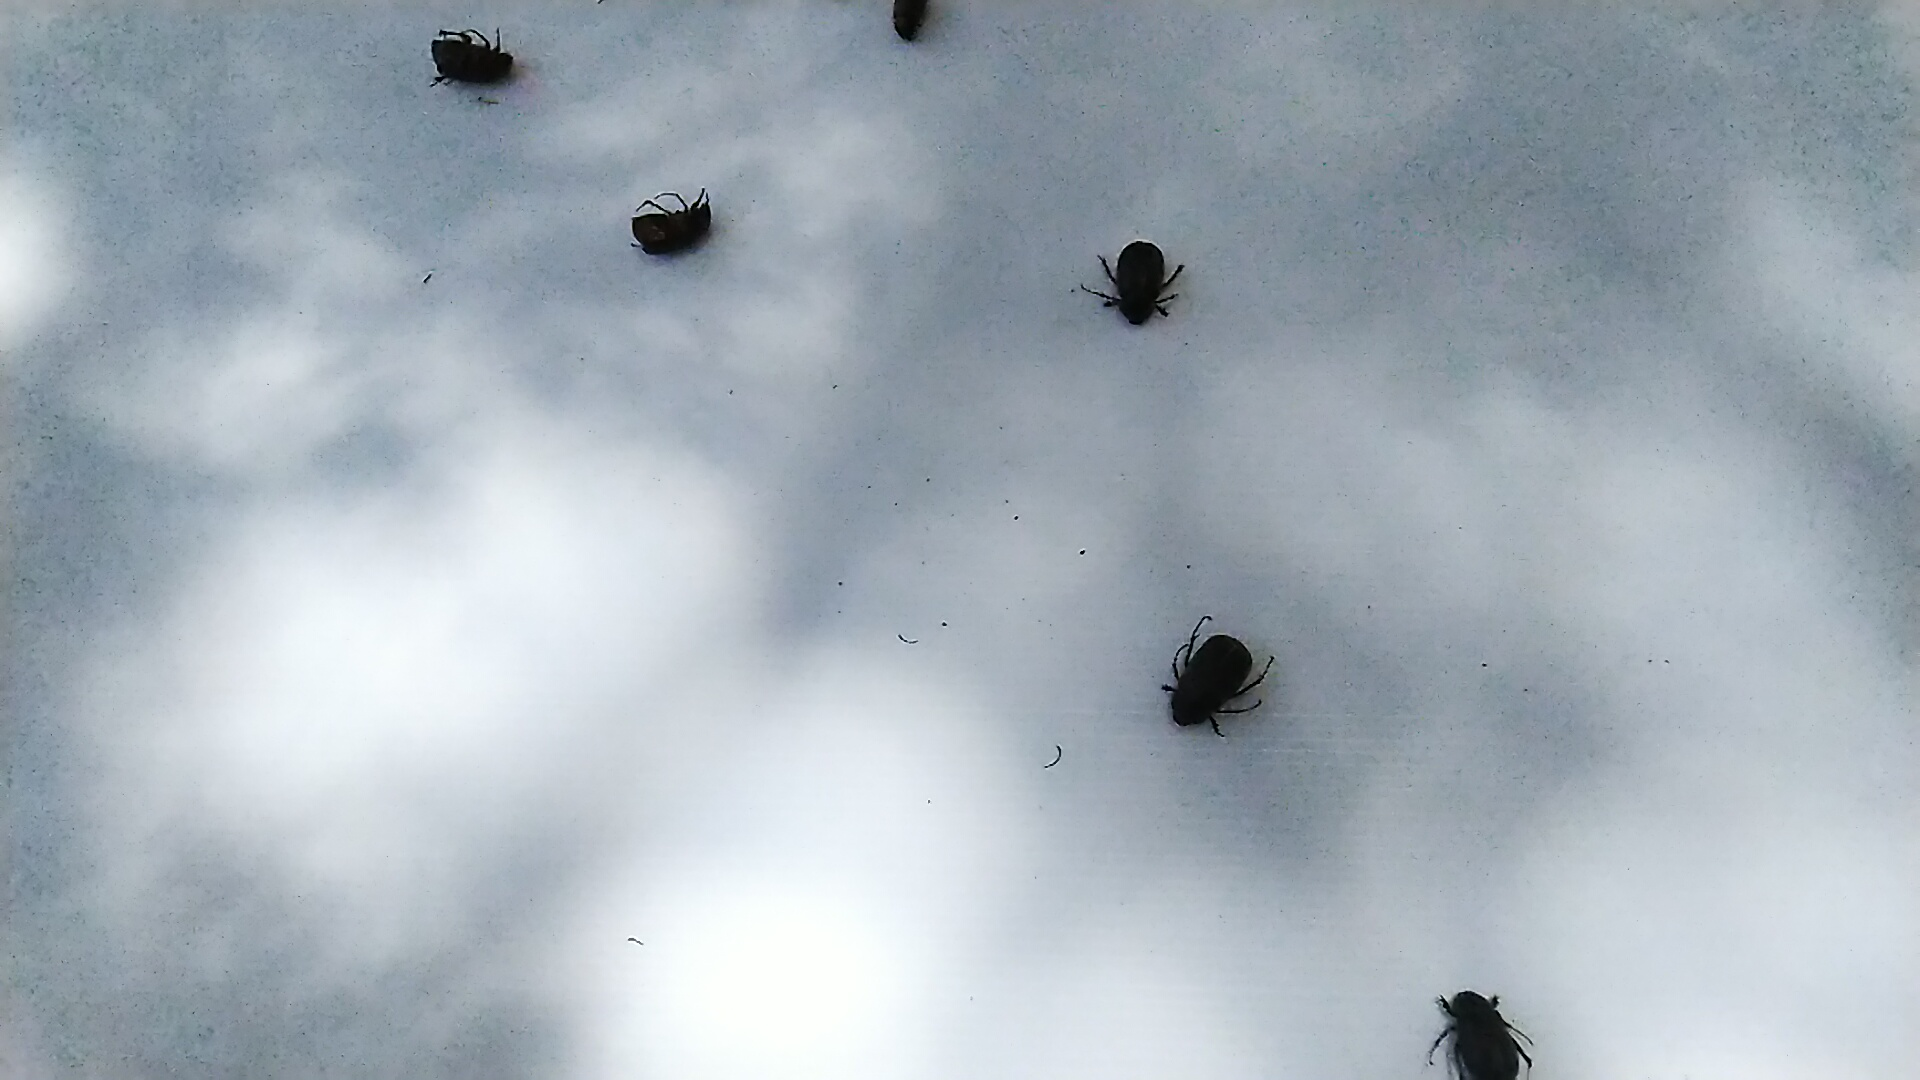INS-A: (1153, 599, 1288, 760), (1076, 218, 1187, 343), (611, 165, 735, 265), (1424, 978, 1534, 1080), (415, 20, 539, 98)
